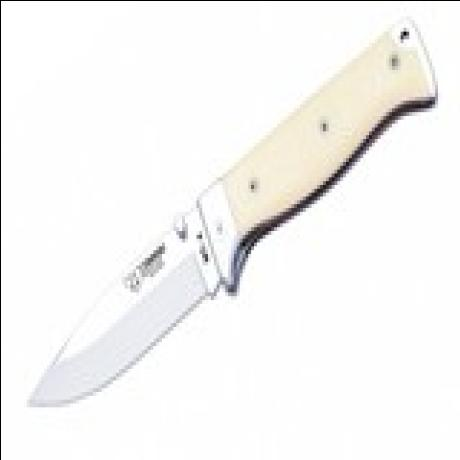weapon: (27, 14, 437, 409)
